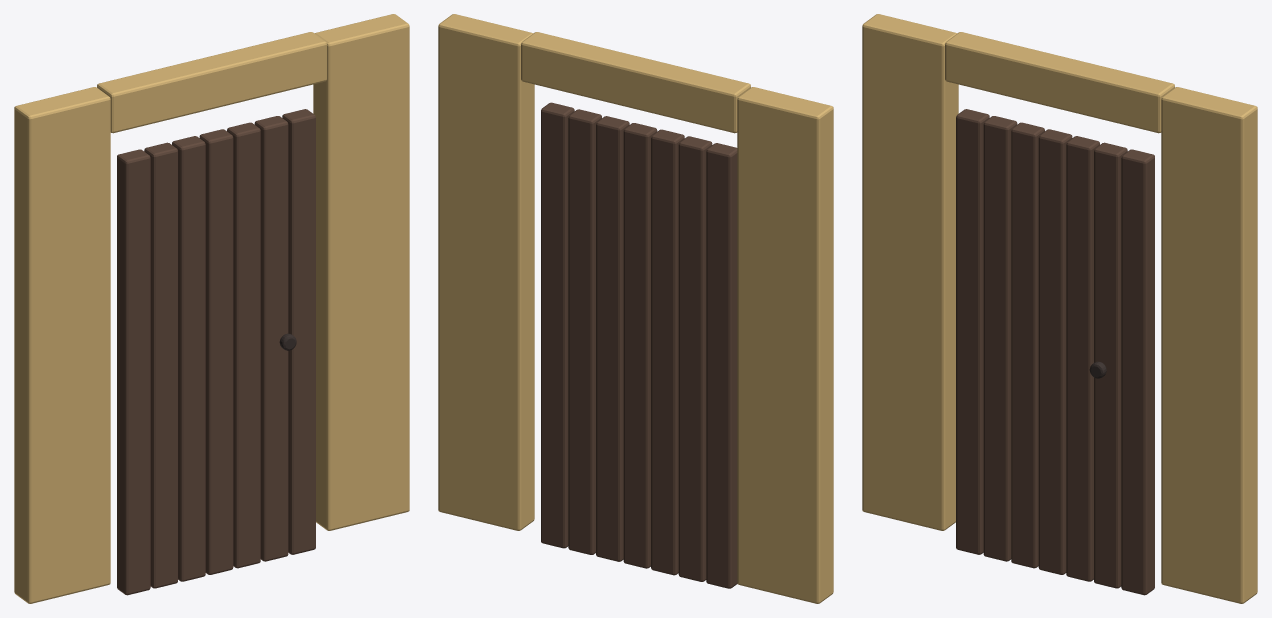
The model's file is wall_door_2m__finish.glb.
3 views of the same model, side by side, from view 1: azimuth 30°, elevation 25°; view 2: azimuth 150°, elevation 25°; view 3: azimuth 330°, elevation 25° (orthographic).
Visible parts, largest first — view 1: wall_door_2m__finish__mesh_00; view 2: wall_door_2m__finish__mesh_00; view 3: wall_door_2m__finish__mesh_00.
Part boxes in pixels (x1,y1,x2,y2): wall_door_2m__finish__mesh_00: (14,14,409,603); wall_door_2m__finish__mesh_00: (438,14,833,603); wall_door_2m__finish__mesh_00: (862,14,1257,603).
Size of the model in its own units: 1.8 by 2.27 by 0.2385.
